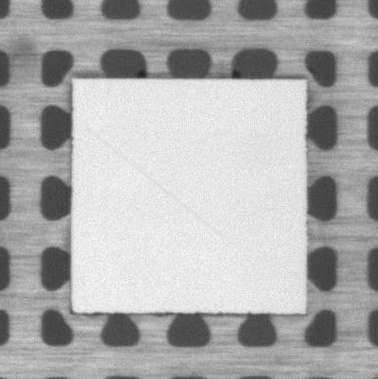DIE_CRACK: (87, 128, 220, 236)
